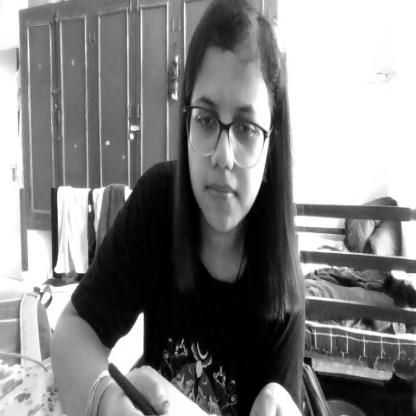Normal: (186, 0, 286, 239)
